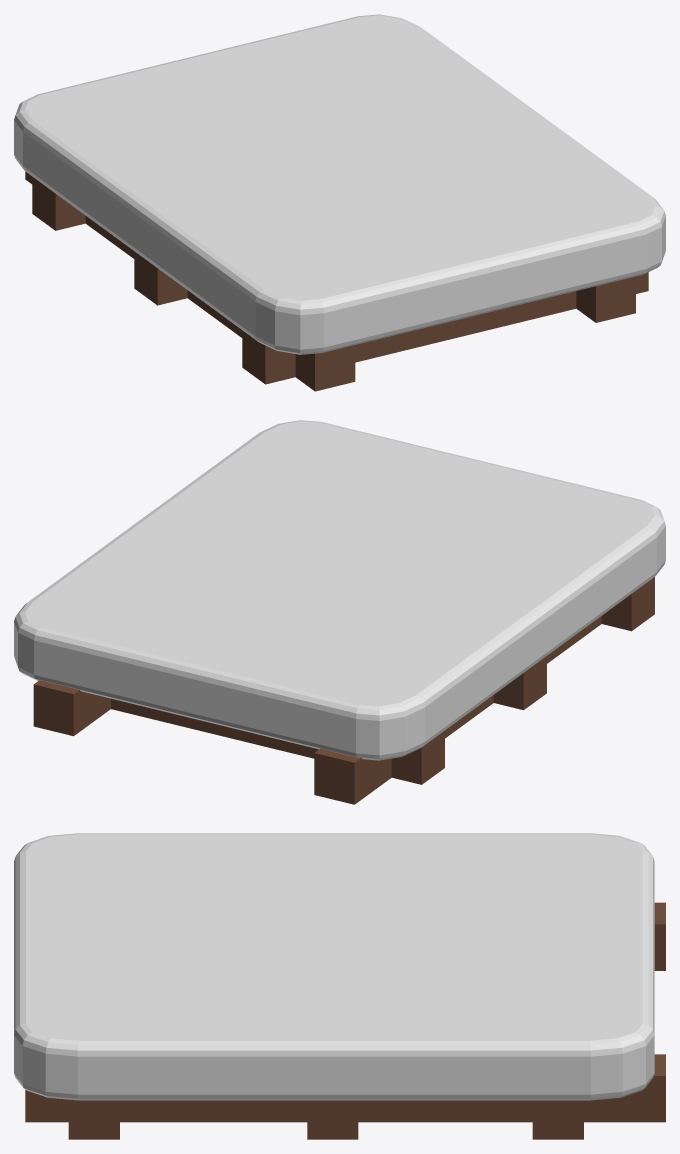
File: Steven's Bed.fbx
3 views of the same model, one above another, from view 1: azimuth 30°, elevation 25°; view 2: azimuth 150°, elevation 25°; view 3: azimuth 270°, elevation 25° (orthographic). The views are drawn at different scales.
Visible parts, largest first — view 1: Mattress, Base; view 2: Mattress, Base; view 3: Mattress, Base.
Boxes of the visible parts, box(x1,y1,x2,y2) form: Mattress: box(14, 14, 665, 354); Base: box(25, 171, 648, 391); Mattress: box(14, 420, 665, 760); Base: box(33, 577, 654, 804); Mattress: box(14, 833, 654, 1100); Base: box(25, 902, 665, 1139).
Size of the model in its own units: 5.09 by 0.8655 by 4.
